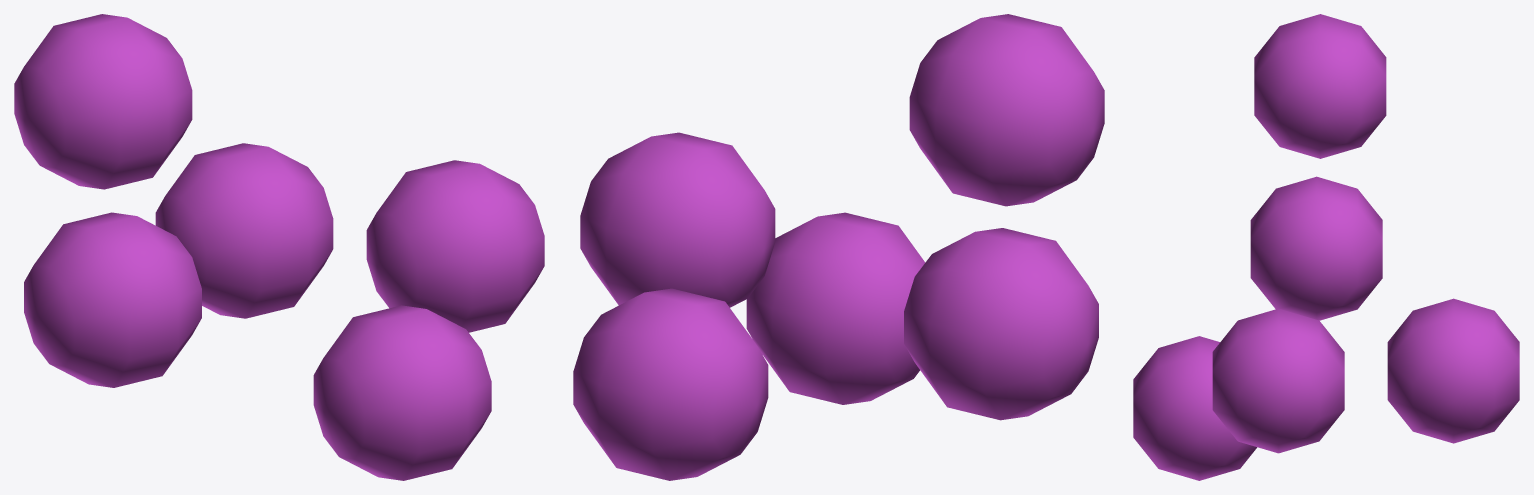
File: Pearl.FBX
3 renders of one model, left to right at view 1: azimuth 30°, elevation 25°; view 2: azimuth 150°, elevation 25°; view 3: azimuth 270°, elevation 25°, orthographic. The views are drawn at different scales.
Parts seen in each view (by area): view 1: Sphere004, Sphere001, Sphere002, Sphere003, Sphere005; view 2: Sphere004, Sphere005, Sphere002, Sphere003, Sphere001; view 3: Sphere003, Sphere005, Sphere004, Sphere002, Sphere001.
Boxes of the visible parts, x1,y1,x2,y2 form: Sphere004: (14, 14, 192, 189); Sphere001: (313, 305, 491, 480); Sphere002: (24, 212, 201, 387); Sphere003: (366, 160, 544, 332); Sphere005: (155, 143, 333, 318); Sphere004: (909, 14, 1104, 206); Sphere005: (573, 288, 768, 480); Sphere002: (904, 228, 1098, 420); Sphere003: (580, 132, 775, 307); Sphere001: (746, 212, 925, 404); Sphere003: (1212, 308, 1344, 453); Sphere005: (1387, 298, 1519, 443); Sphere004: (1254, 14, 1386, 158); Sphere002: (1250, 176, 1382, 320); Sphere001: (1133, 336, 1256, 480).
Size of the model in its own units: 36.92 by 32.63 by 31.76.
